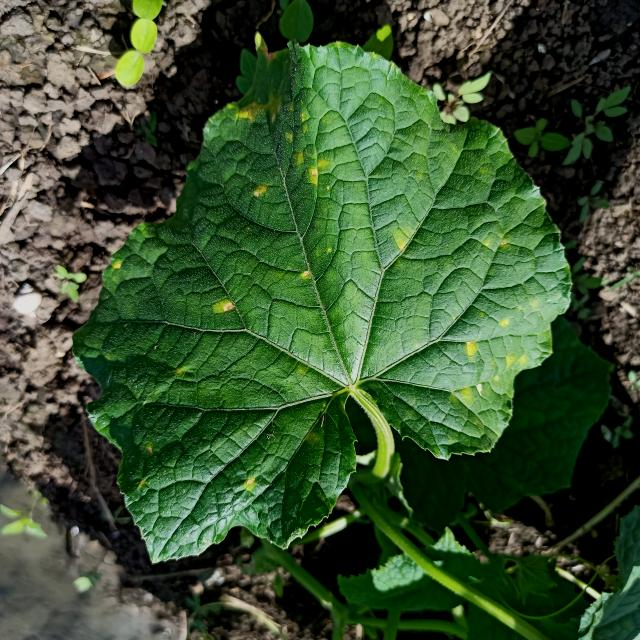disease_cucumber: (234, 95, 338, 201), (450, 314, 529, 402), (212, 298, 239, 314), (394, 229, 410, 251), (243, 475, 255, 487), (301, 266, 311, 277)
